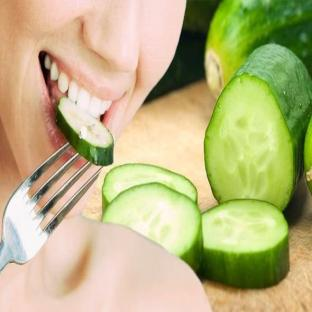Cucumber: (205, 44, 311, 210), (205, 0, 311, 96), (103, 183, 202, 270), (200, 200, 289, 287), (102, 164, 197, 210), (56, 98, 113, 165), (183, 0, 219, 35), (304, 119, 311, 193)
